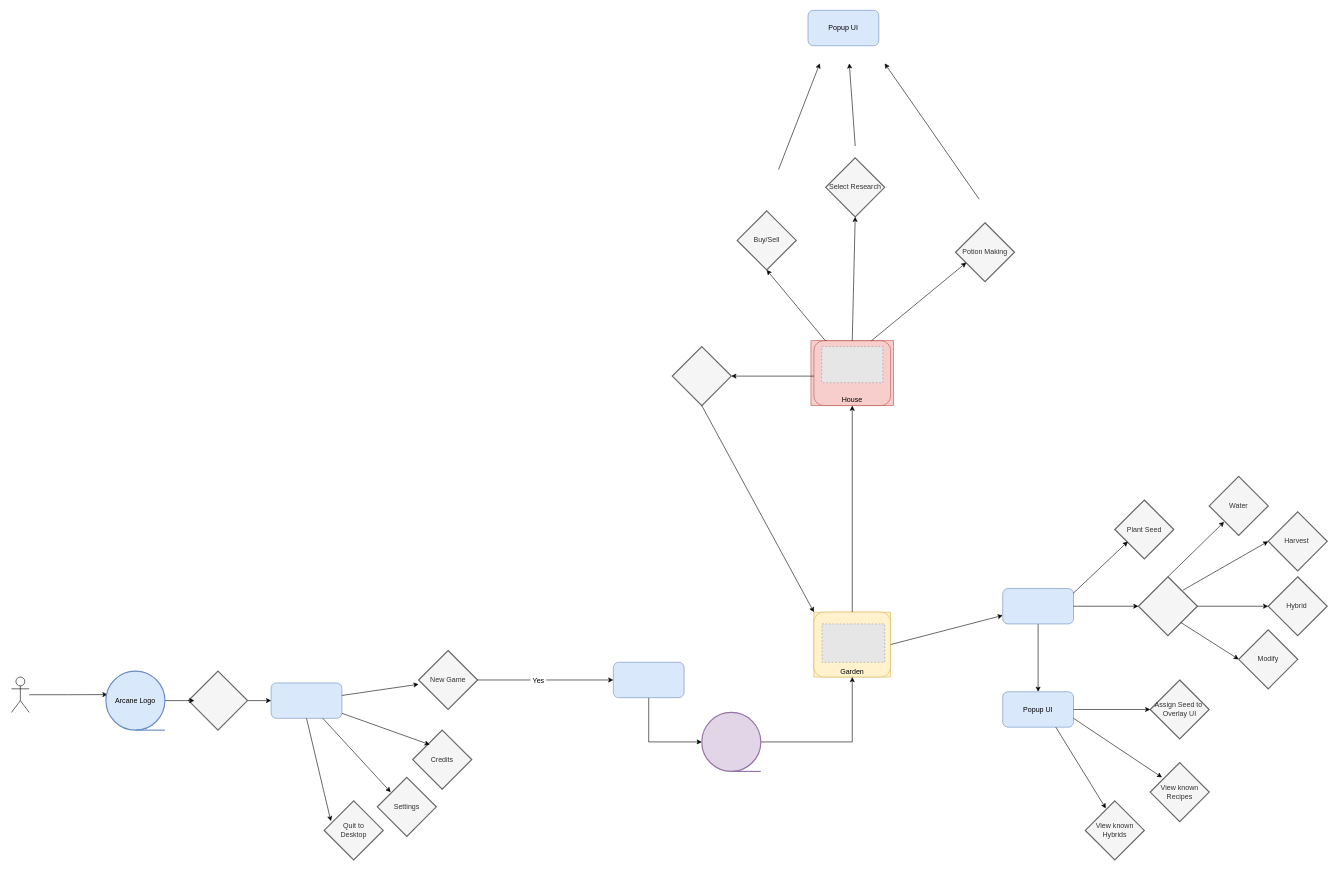
Image size: 1338x871. Some labels were removed from this diagram. Grey dashed boxes stand in for pictures. The centre of each missing label's shape, as x and y in pixels:
"1 second" goes at (x=218, y=700).
"Cast Spell" goes at (x=1168, y=606).
"End Turn" goes at (x=701, y=376).
"Loading Screen" goes at (x=648, y=680).
"Menu UI" goes at (x=306, y=700).
"Opening Story Board GIF?" goes at (x=731, y=742).
"Overlay UI" goes at (x=1038, y=606).
"Player" goes at (x=20, y=694).
